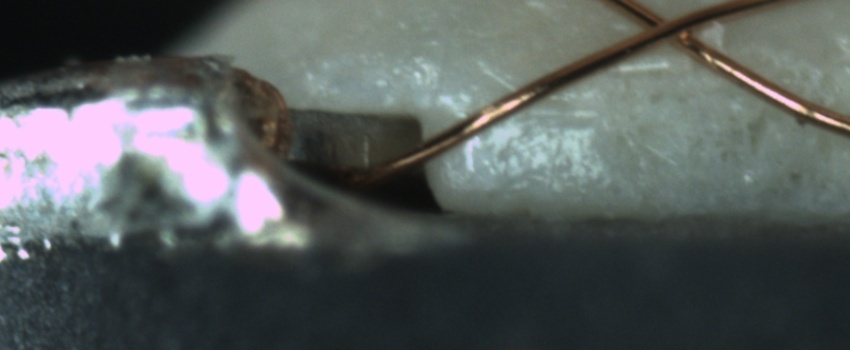CL: (623, 2, 716, 57)
DL: (464, 82, 599, 149)
TE: (224, 64, 311, 155)
